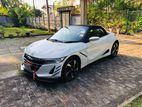car: (23, 25, 120, 81)
